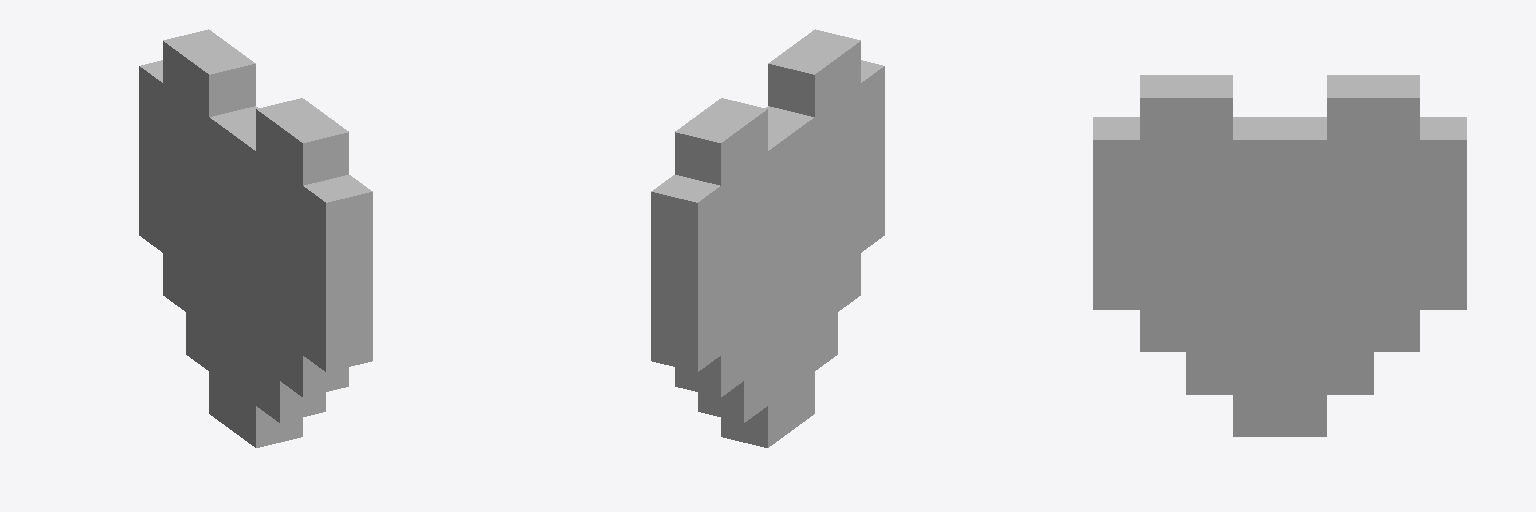
File: heart.obj
3 renders of one model, left to right at view 1: azimuth 30°, elevation 25°; view 2: azimuth 150°, elevation 25°; view 3: azimuth 270°, elevation 25°, orthographic.
Parts seen in each view (by area): view 1: Cube_Cube.002; view 2: Cube_Cube.002; view 3: Cube_Cube.002.
Part boxes in pixels (x1,y1,x2,y2): Cube_Cube.002: (139,29,372,447); Cube_Cube.002: (651,29,884,447); Cube_Cube.002: (1093,75,1466,436).
Size of the model in its own units: 0.2857 by 2 by 2.